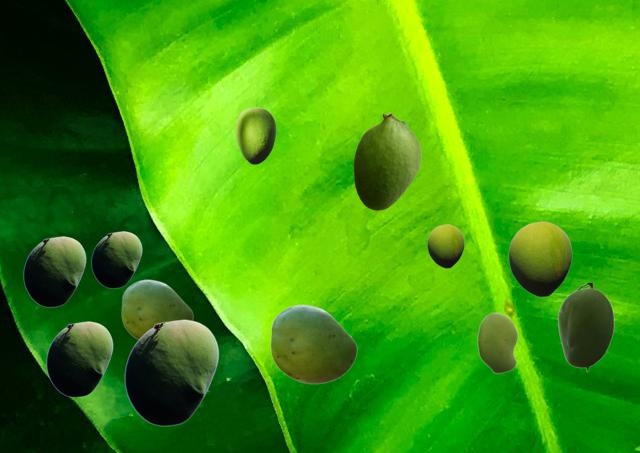green_mango: (124, 319, 218, 425), (270, 304, 356, 383), (353, 112, 420, 209), (46, 321, 112, 396), (557, 283, 613, 371), (508, 221, 571, 296), (23, 236, 85, 306), (121, 279, 192, 339), (91, 231, 141, 287), (477, 312, 517, 373), (235, 107, 275, 163), (427, 224, 463, 267)
